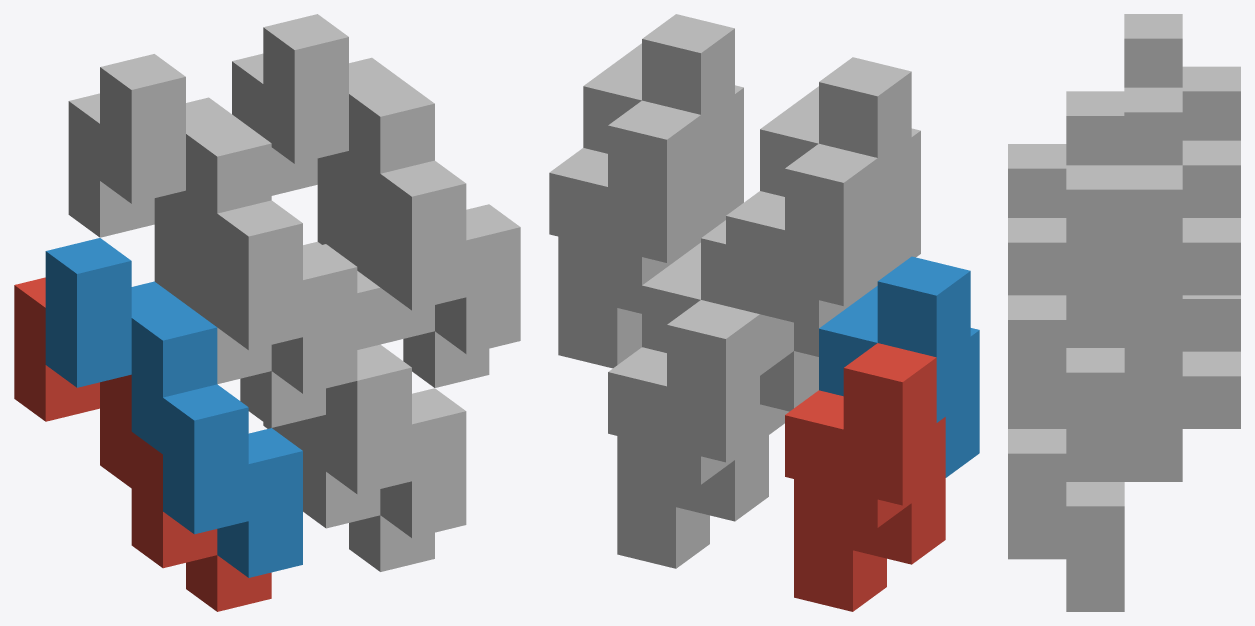
Rendered from tiling.obj.
3 views of the same model, side by side, from view 1: azimuth 30°, elevation 25°; view 2: azimuth 150°, elevation 25°; view 3: azimuth 270°, elevation 25° (orthographic). The views are drawn at different scales.
Visible parts, largest first — view 1: copy_1_domain_2, copy_1_domain_4, copy_1_domain_8, copy_1_domain_6, copy_1_domain_1, copy_1_domain_3, copy_1_domain_7, copy_1_domain_5; view 2: copy_1_domain_1, copy_1_domain_5, copy_1_domain_7, copy_1_domain_3, copy_1_domain_2, copy_1_domain_4, copy_1_domain_8, copy_1_domain_6; view 3: copy_1_domain_8, copy_1_domain_7, copy_1_domain_5, copy_1_domain_4, copy_1_domain_6, copy_1_domain_3.
Boxes of the visible parts, x1,y1,x2,y2 form: copy_1_domain_2: [45, 238, 302, 577]; copy_1_domain_4: [100, 54, 357, 393]; copy_1_domain_8: [263, 14, 520, 354]; copy_1_domain_6: [303, 241, 466, 537]; copy_1_domain_1: [14, 277, 271, 611]; copy_1_domain_3: [68, 93, 325, 427]; copy_1_domain_7: [232, 53, 489, 387]; copy_1_domain_5: [263, 415, 434, 571]; copy_1_domain_1: [785, 343, 945, 611]; copy_1_domain_5: [608, 300, 768, 568]; copy_1_domain_7: [549, 100, 709, 368]; copy_1_domain_3: [726, 143, 886, 411]; copy_1_domain_2: [819, 256, 979, 477]; copy_1_domain_4: [760, 57, 920, 274]; copy_1_domain_8: [583, 14, 743, 231]; copy_1_domain_6: [642, 220, 793, 434]; copy_1_domain_8: [1008, 87, 1182, 425]; copy_1_domain_7: [1066, 140, 1240, 478]; copy_1_domain_5: [1066, 295, 1240, 611]; copy_1_domain_4: [1008, 14, 1182, 217]; copy_1_domain_6: [1008, 348, 1182, 559]; copy_1_domain_3: [1182, 66, 1240, 140].
Size of the model in its own units: 7 by 9 by 4.
